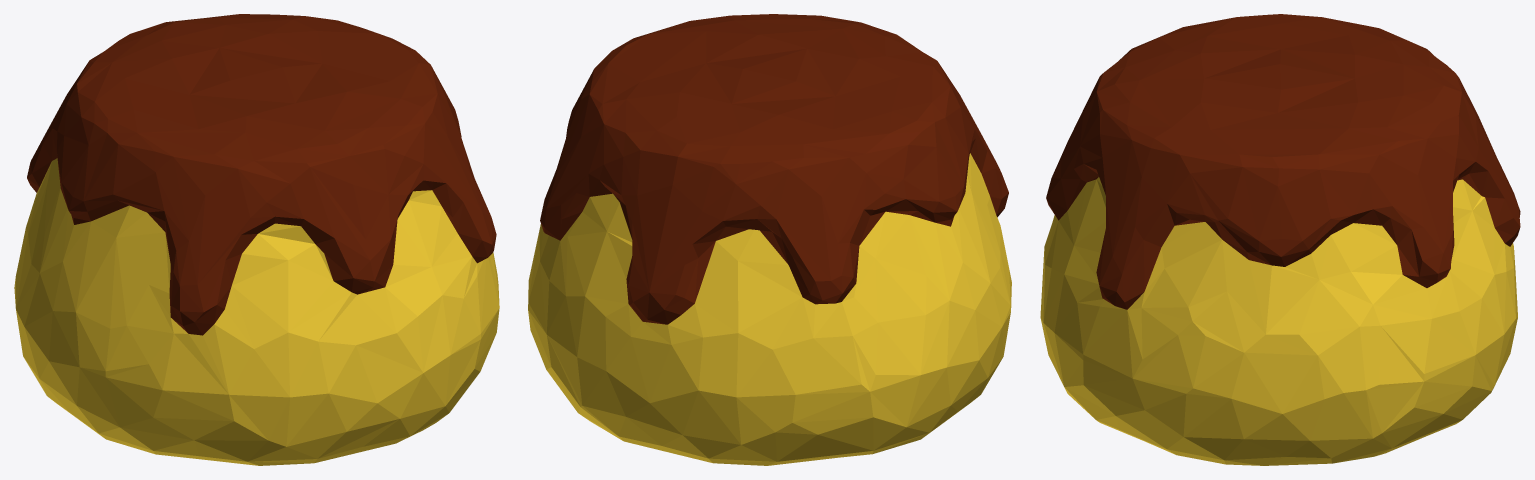
File: Flan.fbx
3 renders of one model, left to right at view 1: azimuth 30°, elevation 25°; view 2: azimuth 150°, elevation 25°; view 3: azimuth 270°, elevation 25°, orthographic.
Parts seen in each view (by area): view 1: Flan, Caramelo; view 2: Flan, Caramelo; view 3: Flan, Caramelo.
Part boxes in pixels (x1,y1,x2,y2): Flan: [14, 158, 499, 465]; Caramelo: [27, 14, 496, 335]; Flan: [528, 153, 1011, 465]; Caramelo: [540, 14, 1008, 324]; Flan: [1040, 177, 1517, 465]; Caramelo: [1046, 14, 1520, 309].
Size of the model in its own units: 0.9961 by 0.6969 by 0.9971.
